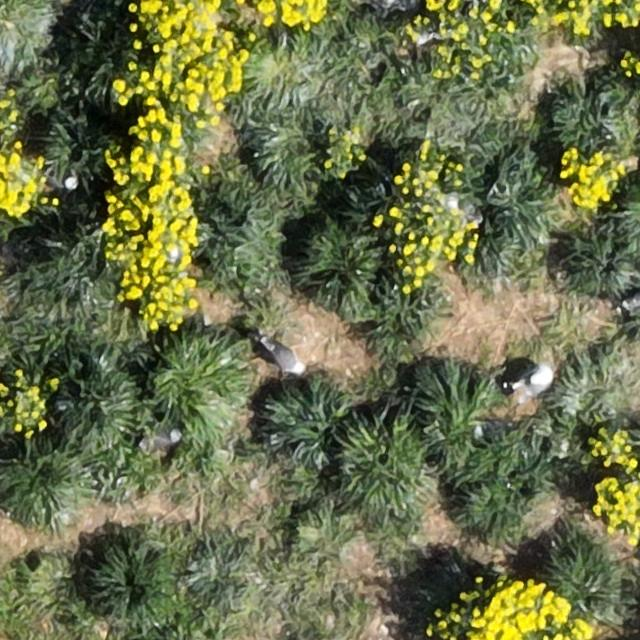umineko: (266, 342, 303, 372), (516, 366, 550, 392), (148, 429, 178, 448), (623, 291, 639, 311)
